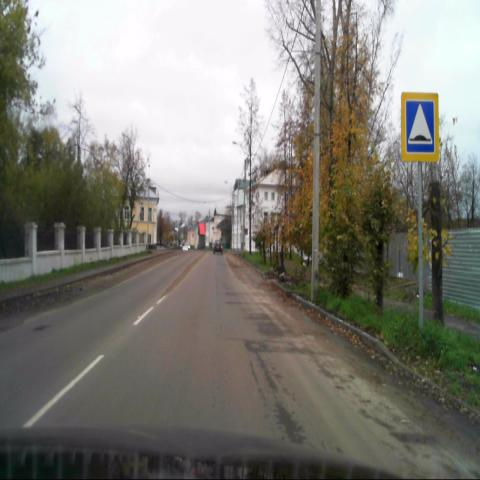5_20: (402, 92, 438, 160)
